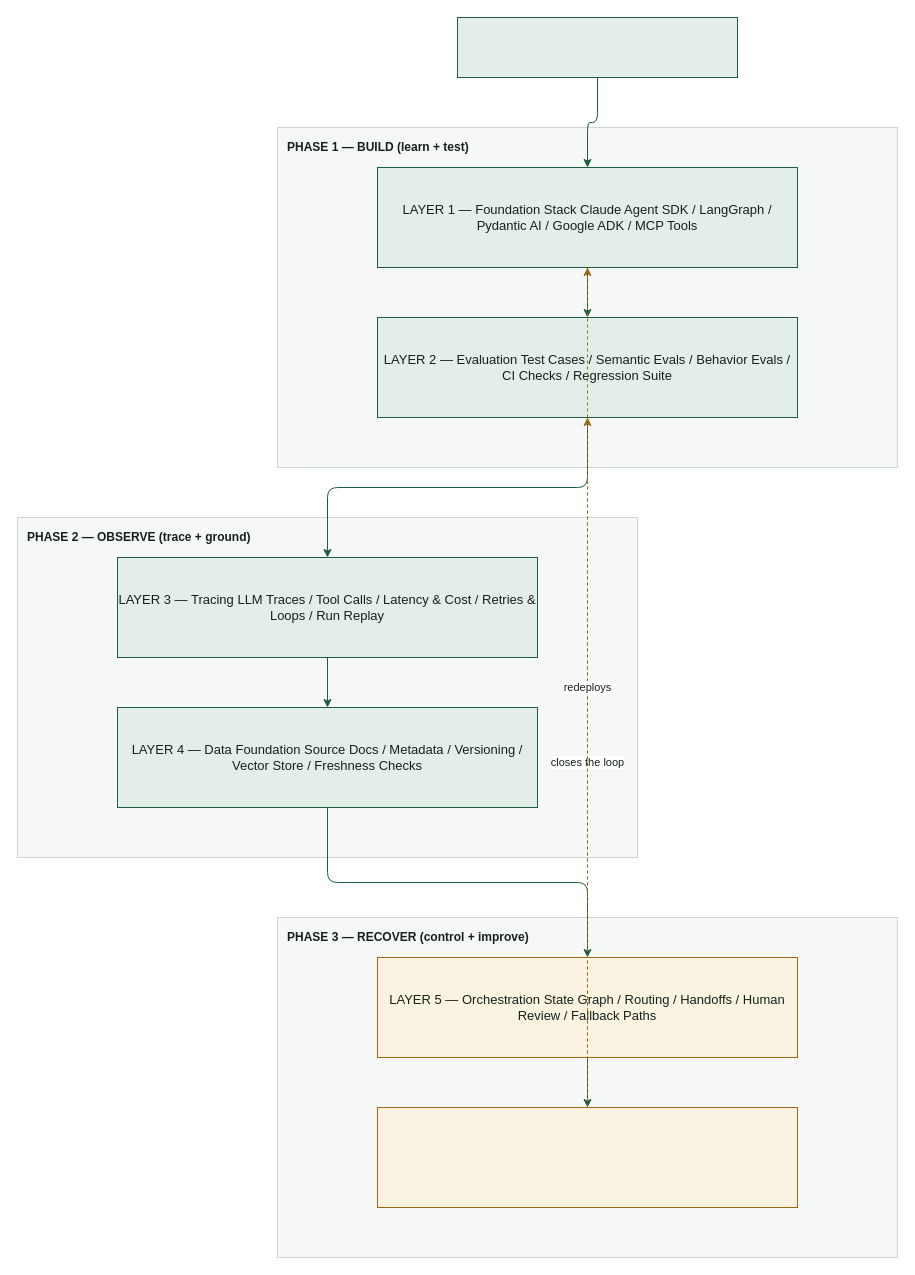
This 915x1275 diagram has some shape labels left out. Each missing label, with the centre of its shape:
"LAYER 6 — Failure Recovery Detect / Diagnose / Resume / Add Test / Redeploy" belongs at point (587, 1157).
"Real User / Real Request" belongs at point (597, 47).
